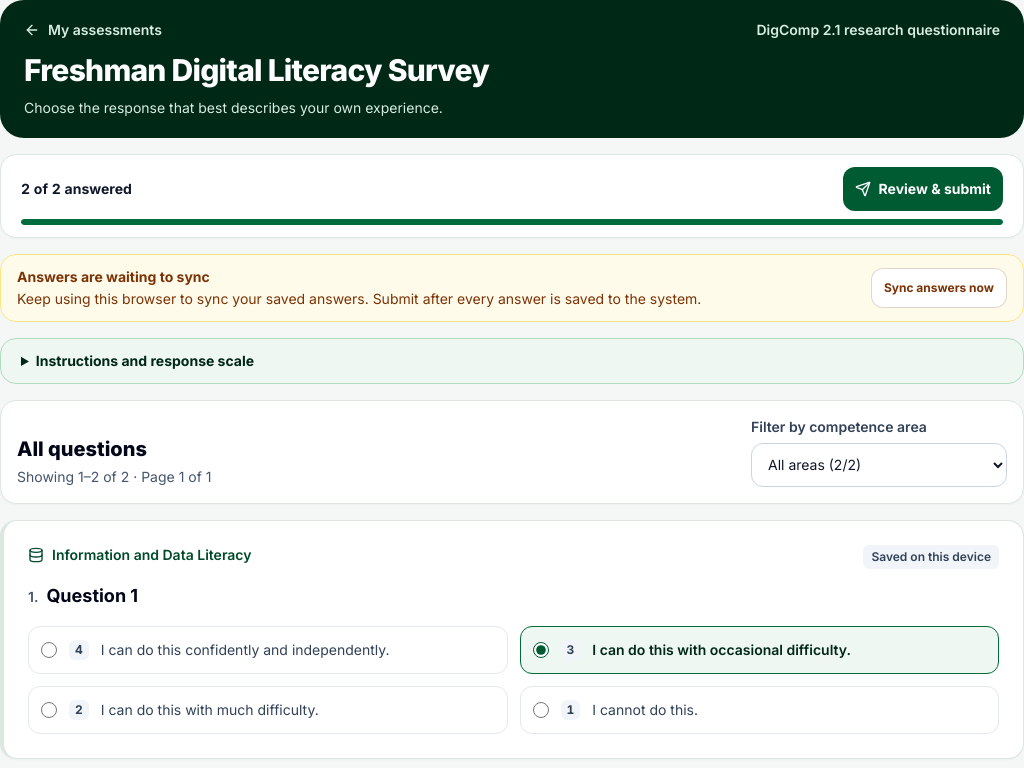
Test: TakeAssessment offline batch sync & Part III discoverability › batches queued answers into one PUT /respond request and exposes Part III in the Review modal
Later steps or results of the test are not shown.
Click the button with aria-label "Review and submit". click: (923, 188)
box: top-left (842, 166), bottom-right (1003, 210)
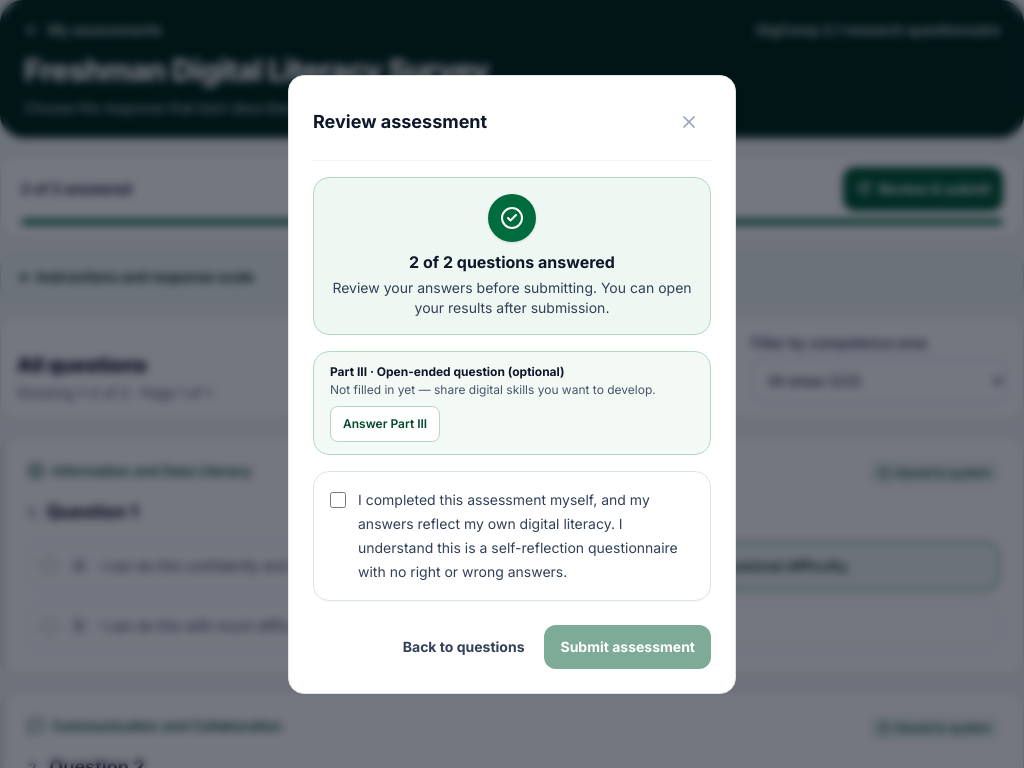
Now the button "Answer Part III" is shown, box top-left (330, 406), bottom-right (440, 442)
